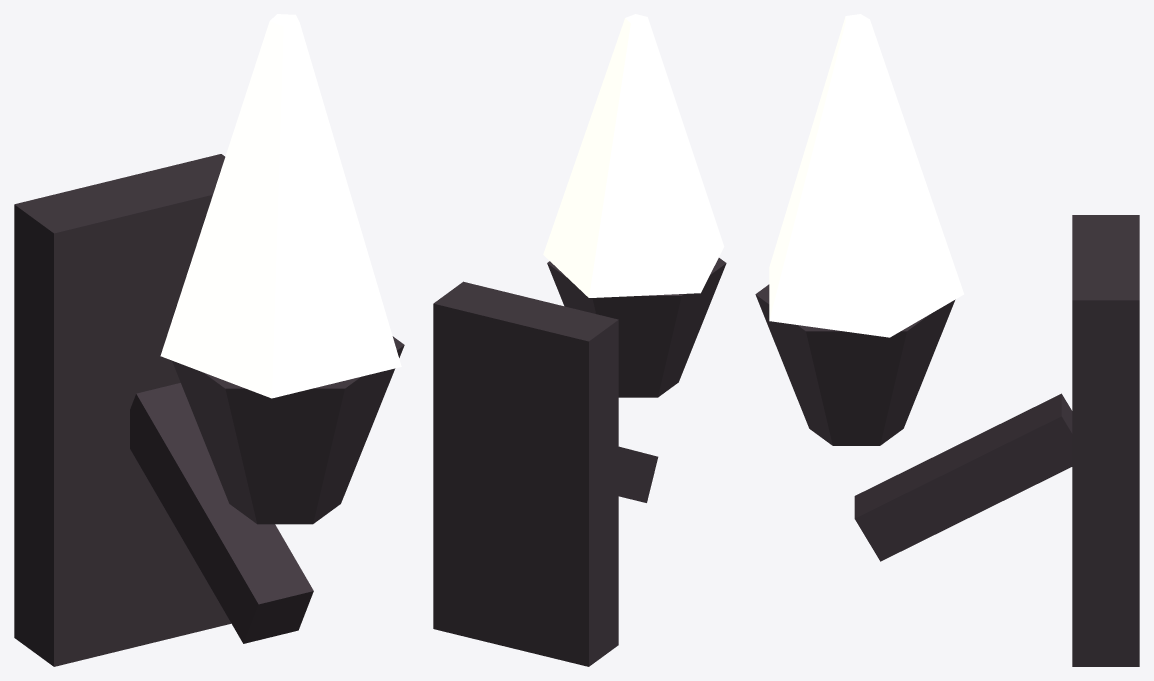
File: torch_wall.glb
3 views of the same model, side by side, from view 1: azimuth 30°, elevation 25°; view 2: azimuth 150°, elevation 25°; view 3: azimuth 270°, elevation 25° (orthographic). The views are drawn at different scales.
Visible parts, largest first — view 1: torch_wall, Flame; view 2: torch_wall, Flame; view 3: torch_wall, Flame.
Boxes of the visible parts, box(x1,y1,x2,y2) form: torch_wall: box(14, 154, 404, 666); Flame: box(160, 14, 401, 398); torch_wall: box(433, 258, 726, 666); Flame: box(543, 14, 724, 297); torch_wall: box(755, 215, 1139, 666); Flame: box(769, 14, 963, 337).
Bounding box in the file's own units: 0.3043 × 0.99 × 0.57.
